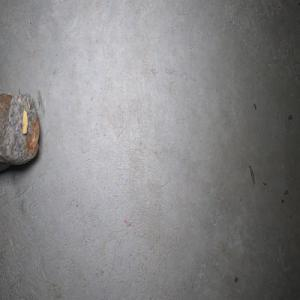Rock: (0, 88, 39, 172)
